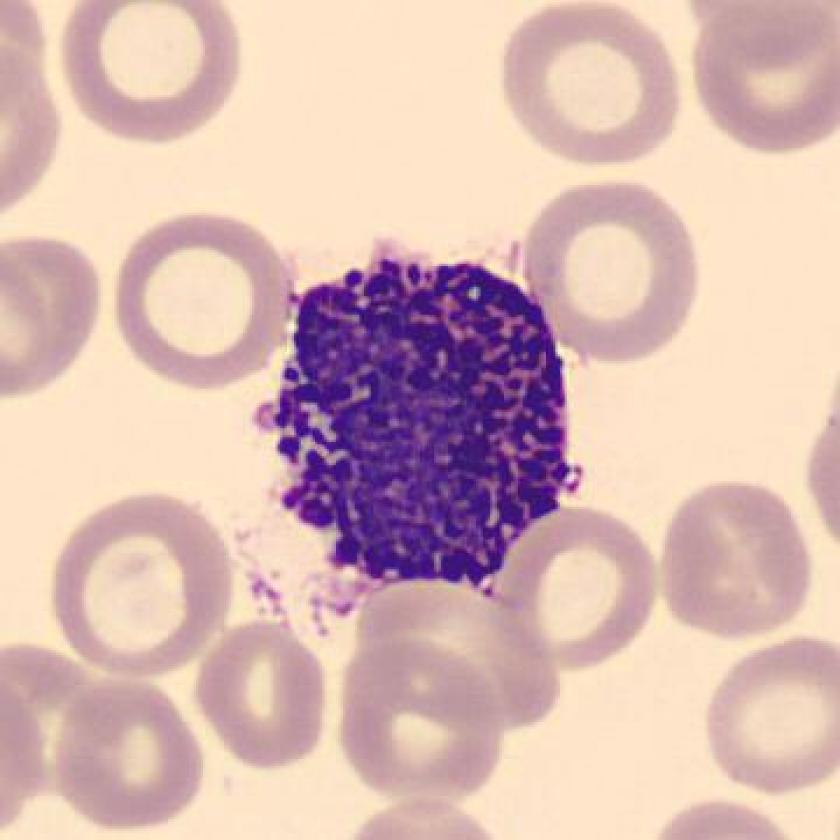basophil: (258, 246, 598, 598)
